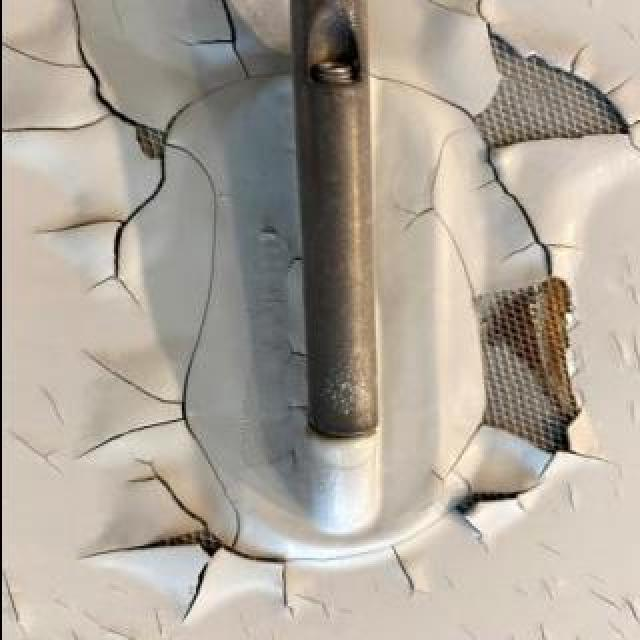crack: (68, 139, 244, 553), (26, 150, 172, 312), (1, 1, 143, 139), (465, 138, 589, 286), (387, 128, 483, 304), (70, 525, 222, 627), (515, 39, 640, 161), (282, 507, 450, 567), (158, 68, 296, 140), (532, 404, 626, 482), (449, 481, 547, 555), (217, 544, 301, 624), (122, 456, 210, 528), (168, 1, 250, 75), (366, 69, 474, 121), (422, 420, 490, 498), (413, 1, 501, 39), (385, 540, 433, 604)
